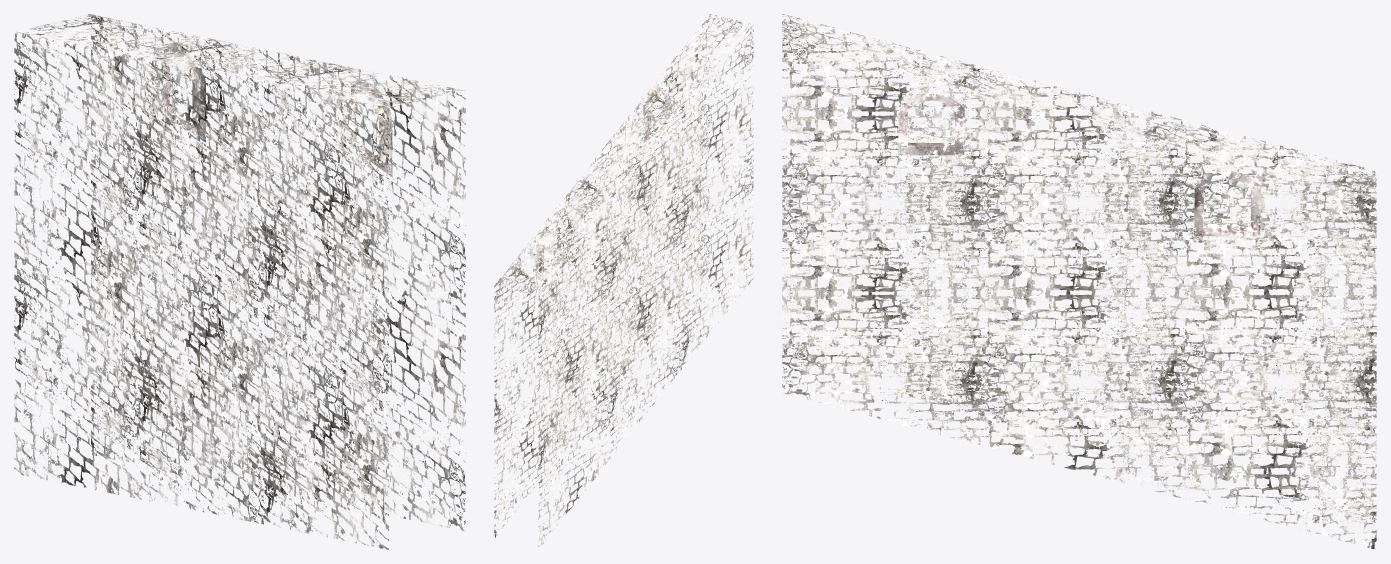
Rendered from SM_fence_03_04.fbx.
The picture shows the model from 3 angles, left to right: view 1: azimuth 30°, elevation 25°; view 2: azimuth 150°, elevation 25°; view 3: azimuth 270°, elevation 25°; orthographic projection. The views are drawn at different scales.
Parts seen in each view (by area): view 1: SM_fence_03_04_LOD0; view 2: SM_fence_03_04_LOD0; view 3: SM_fence_03_04_LOD0.
Part boxes in pixels (left/top/right/bottom): SM_fence_03_04_LOD0: left=14, top=14, right=465, bottom=549; SM_fence_03_04_LOD0: left=494, top=14, right=753, bottom=546; SM_fence_03_04_LOD0: left=782, top=14, right=1376, bottom=549.
Size of the model in its own units: 71.38 by 600 by 565.
Materials: 2 (2 with a texture image).
